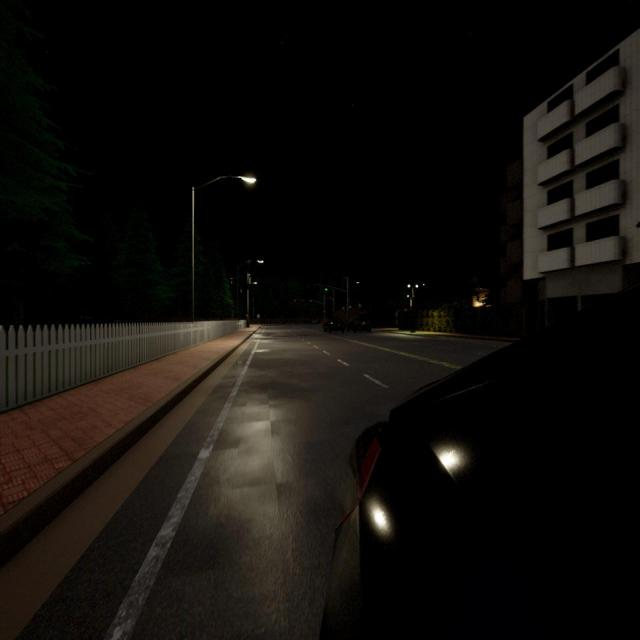Traffic_Signs: (257, 314, 260, 318)
Vehicle: (321, 288, 640, 640), (346, 316, 371, 334), (323, 317, 345, 334)
traffic_light: (324, 287, 328, 291), (294, 298, 296, 302), (323, 310, 325, 313), (310, 300, 312, 302), (302, 300, 304, 302)
